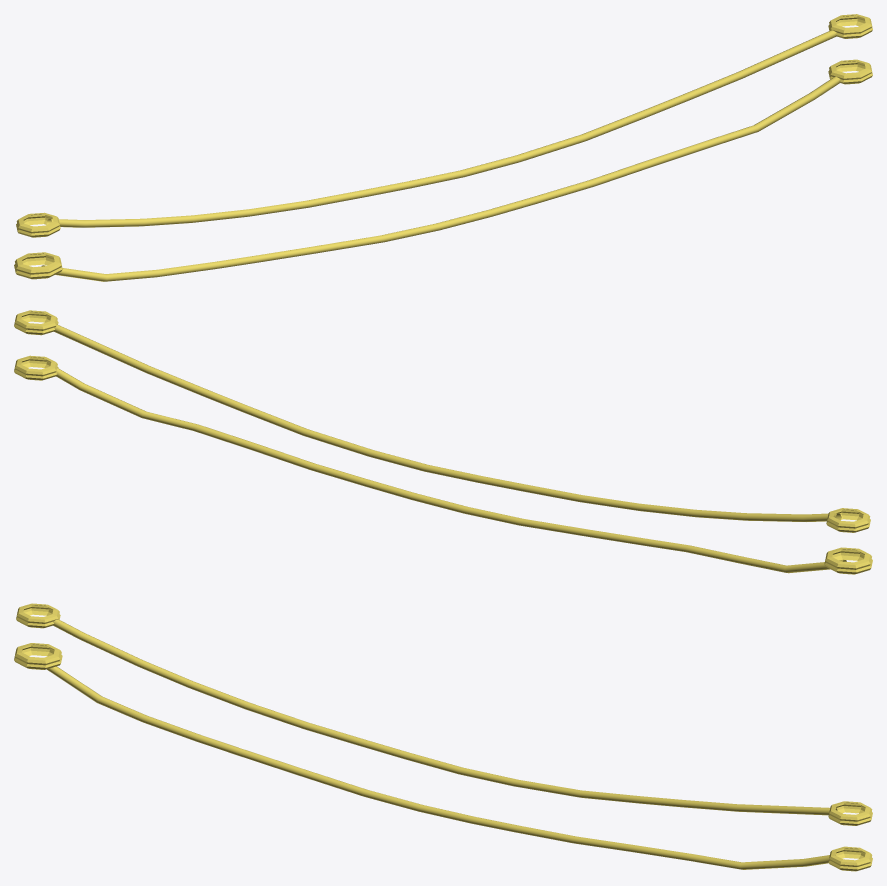
The model's file is Rope_Bridge02.fbx.
3 renders of one model, top to bottom at view 1: azimuth 30°, elevation 25°; view 2: azimuth 150°, elevation 25°; view 3: azimuth 330°, elevation 25°, orthographic.
Parts seen in each view (by area): view 1: NurbsPath.001; view 2: NurbsPath.001; view 3: NurbsPath.001.
Boxes of the visible parts, bbox=[...] form: NurbsPath.001: bbox=[14, 14, 872, 281]; NurbsPath.001: bbox=[14, 310, 872, 574]; NurbsPath.001: bbox=[14, 603, 872, 871].
Size of the model in its own units: 6068 by 676 by 288.
